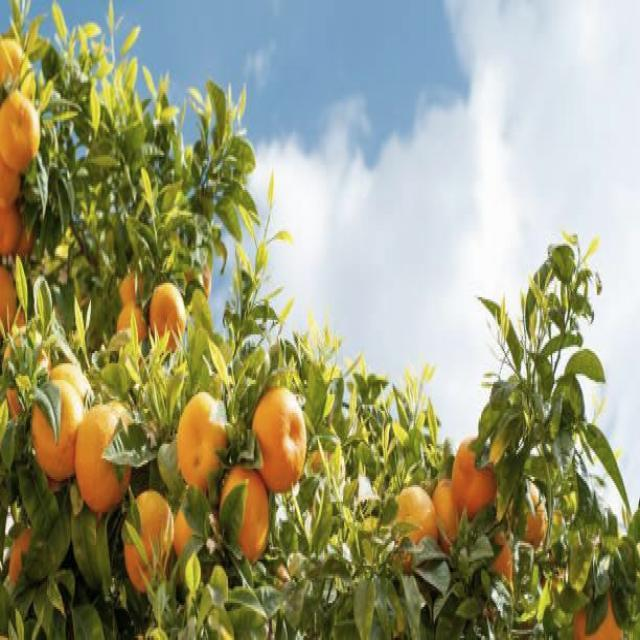Jeruk Sudah Matang: (74, 400, 140, 510), (252, 384, 310, 494), (217, 460, 271, 560), (177, 388, 230, 489), (450, 429, 504, 528), (124, 492, 174, 594), (32, 384, 80, 481), (392, 483, 437, 582), (0, 90, 41, 172), (152, 285, 188, 353), (46, 367, 95, 415), (2, 37, 36, 103), (6, 520, 36, 588), (0, 138, 23, 204), (437, 477, 459, 543), (0, 198, 23, 260), (114, 306, 148, 344), (122, 262, 150, 308), (15, 213, 40, 264), (0, 266, 17, 341)
